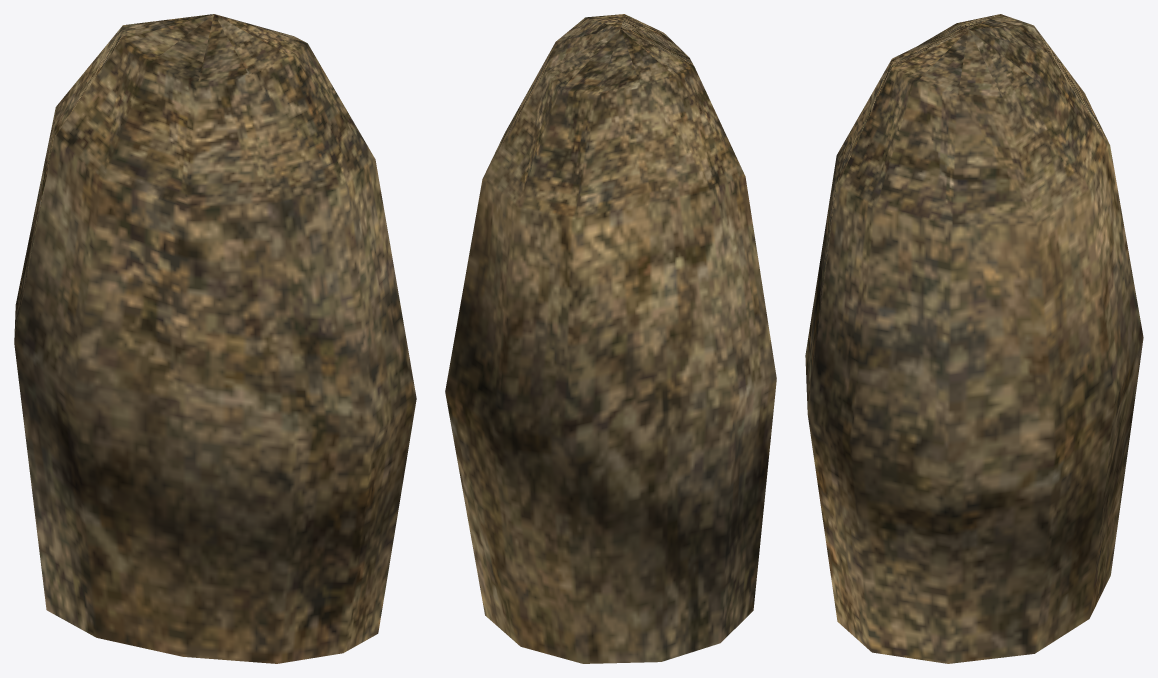
The model's file is CH09_SMAUG_PLAYSURFACE_LONELYMOUNTAIN_LM_PLAYSURFACE37.fbx.
3 views of the same model, side by side, from view 1: azimuth 30°, elevation 25°; view 2: azimuth 150°, elevation 25°; view 3: azimuth 270°, elevation 25° (orthographic). The views are drawn at different scales.
Visible parts, largest first — view 1: CH09_SMAUG_PLAYSURFACE_LONELYMOUNTAIN_LM_PLAYSURFACE37; view 2: CH09_SMAUG_PLAYSURFACE_LONELYMOUNTAIN_LM_PLAYSURFACE37; view 3: CH09_SMAUG_PLAYSURFACE_LONELYMOUNTAIN_LM_PLAYSURFACE37.
Part boxes in pixels (x1,y1,x2,y2): CH09_SMAUG_PLAYSURFACE_LONELYMOUNTAIN_LM_PLAYSURFACE37: (14,14,416,663); CH09_SMAUG_PLAYSURFACE_LONELYMOUNTAIN_LM_PLAYSURFACE37: (445,14,776,663); CH09_SMAUG_PLAYSURFACE_LONELYMOUNTAIN_LM_PLAYSURFACE37: (805,14,1143,663).
Bounding box in the file's own units: 14285 × 25907 × 13803.
1 material, 1 textured.
